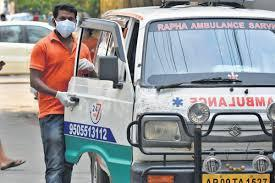Emergency-Vehicles: (74, 0, 275, 183)
